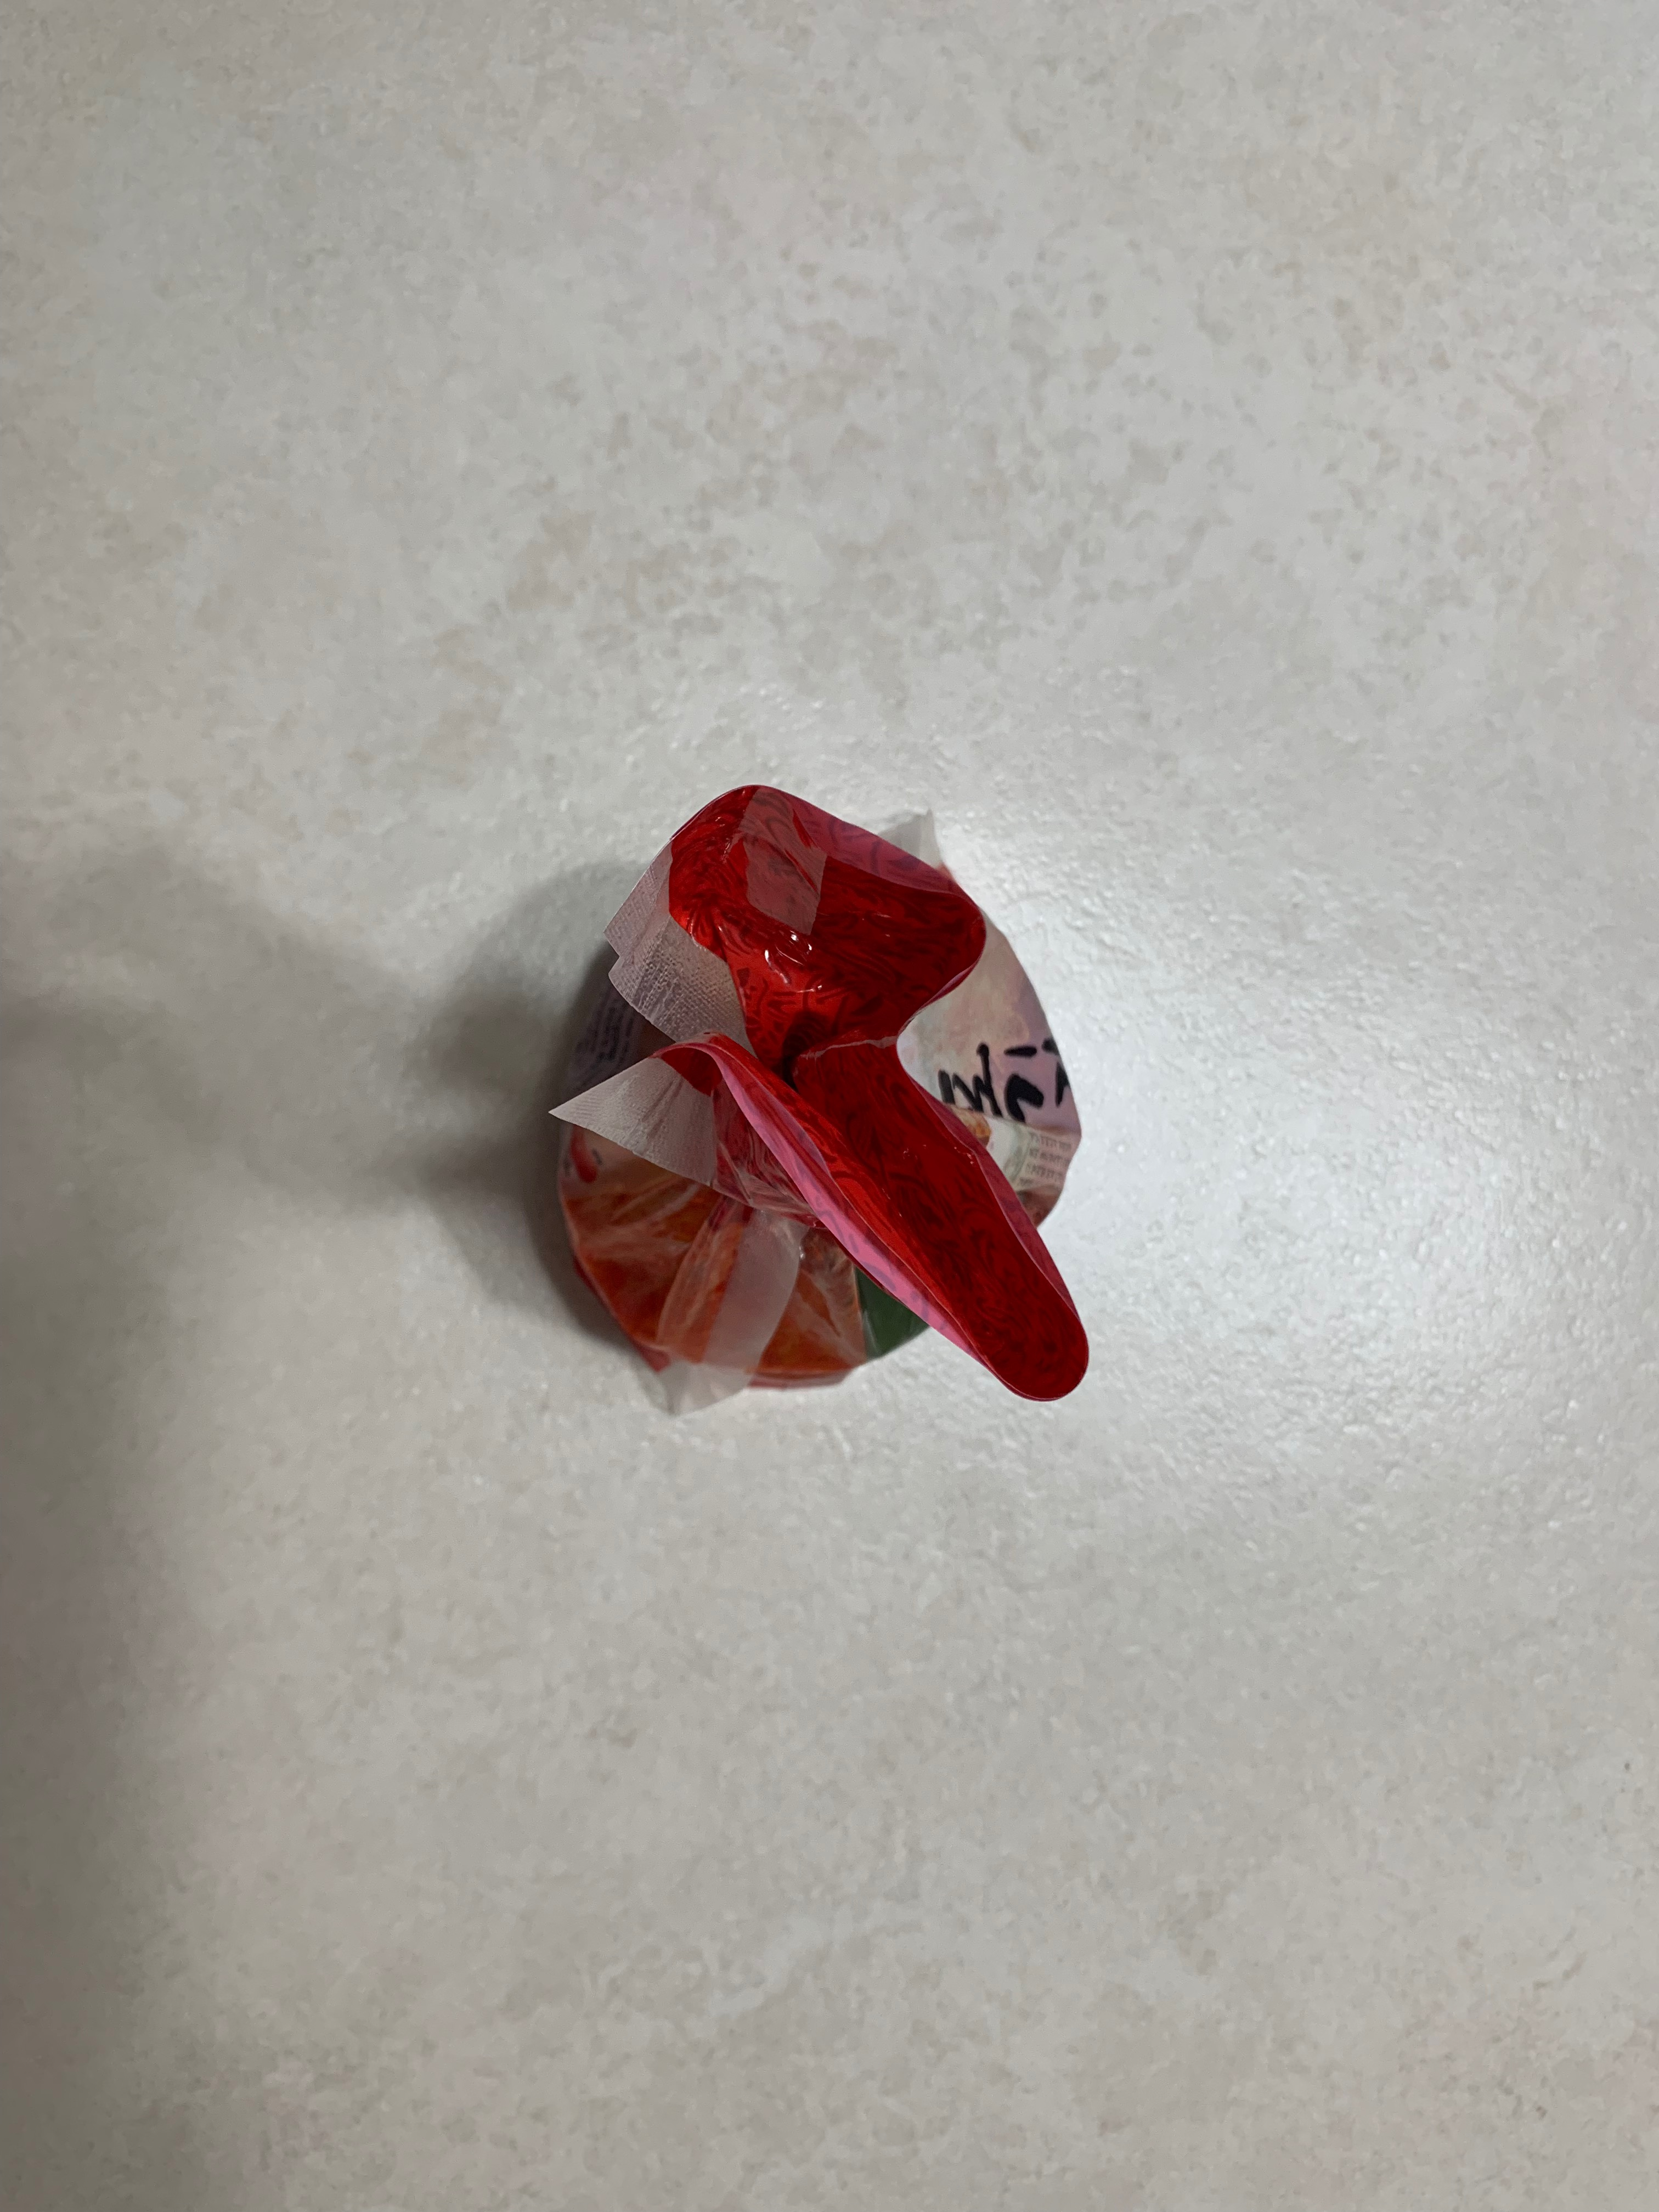kimchi: (542, 786, 1096, 1413)
